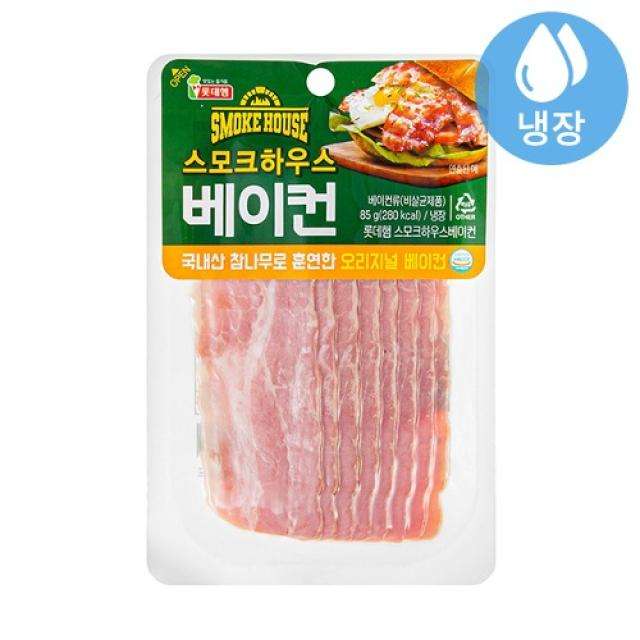bacon: (145, 54, 498, 576)
